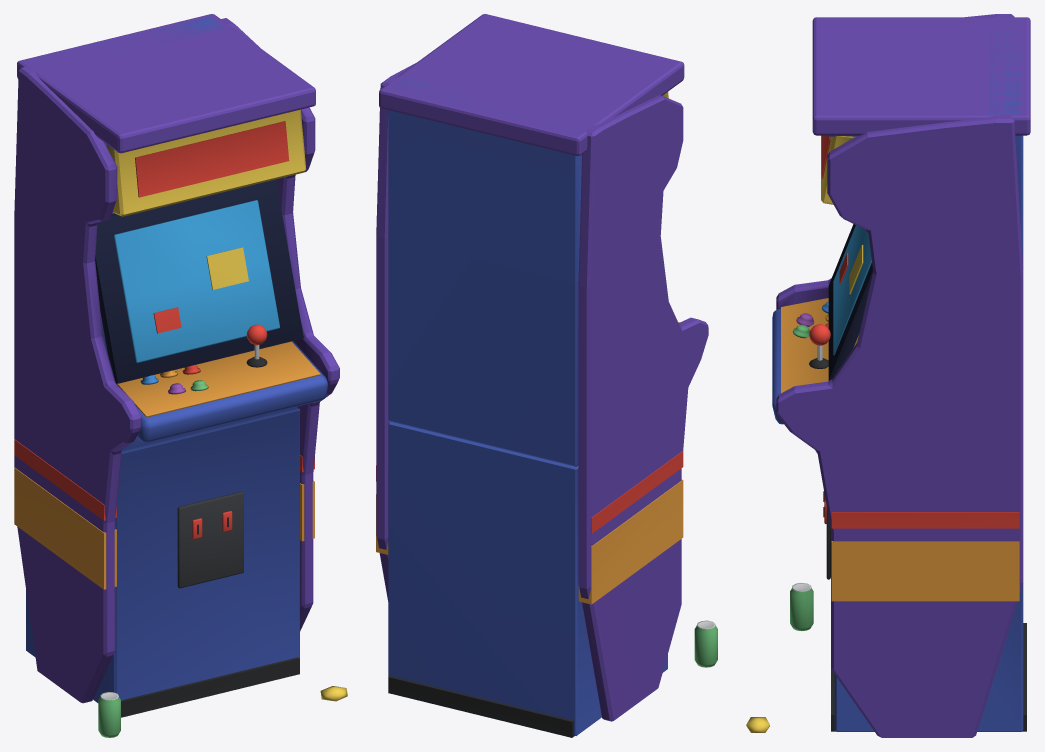
The model's file is arcadeCabinet.glb.
3 renders of one model, left to right at view 1: azimuth 30°, elevation 25°; view 2: azimuth 150°, elevation 25°; view 3: azimuth 270°, elevation 25°, orthographic. The views are drawn at different scales.
Parts seen in each view (by area): view 1: body, joystick; view 2: body; view 3: body, joystick.
Boxes of the visible parts, bbox=[...] form: body: bbox=[14, 14, 347, 737]; joystick: bbox=[246, 324, 267, 367]; body: bbox=[376, 14, 717, 737]; body: bbox=[746, 14, 1030, 737]; joystick: bbox=[809, 324, 830, 368].
Size of the model in its own units: 0.765 by 1.88 by 0.7829.
